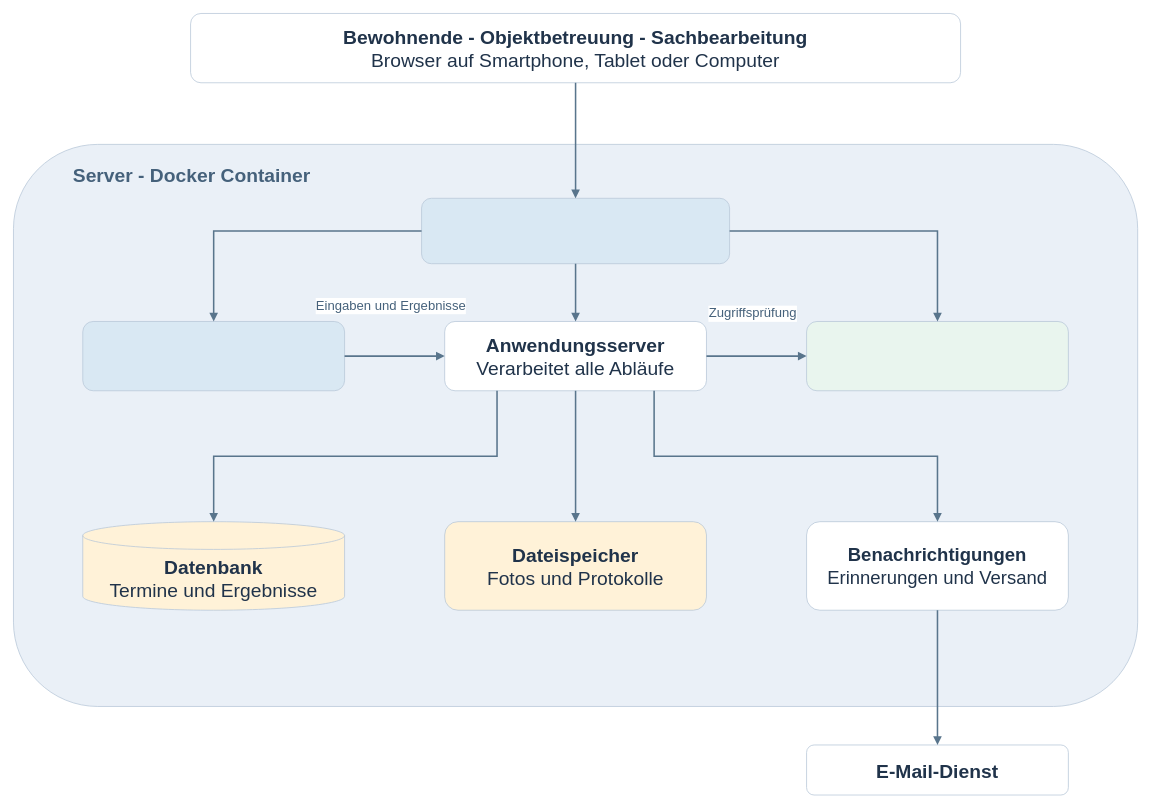
This 1151x809 diagram has some shape labels left out. Each missing label, with the box of its shape:
Anmeldung Prüft Identität und Rollen: (806, 321, 1068, 391)
Sicherer Zugang HTTPS: (421, 198, 730, 264)
Weboberfläche: (82, 321, 345, 391)
